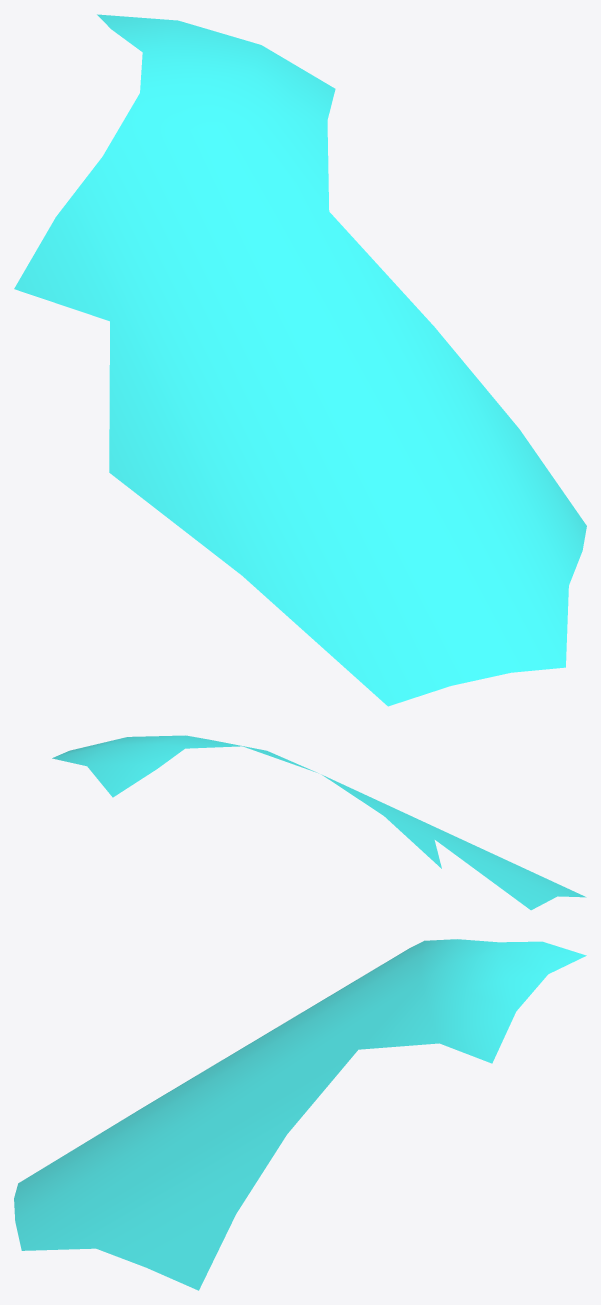
Rendered from firstFrame2.glb.
3 views of the same model, one above another, from view 1: azimuth 30°, elevation 25°; view 2: azimuth 150°, elevation 25°; view 3: azimuth 270°, elevation 25° (orthographic). The views are drawn at different scales.
Visible parts, largest first — view 1: pasted__asd; view 2: pasted__asd; view 3: pasted__asd.
Part boxes in pixels (x1,y1,x2,y2): pasted__asd: (14,14,586,706); pasted__asd: (52,735,586,910); pasted__asd: (14,939,586,1290).
Bounding box in the file's own units: 0.3841 × 0.3302 × 0.6155.
